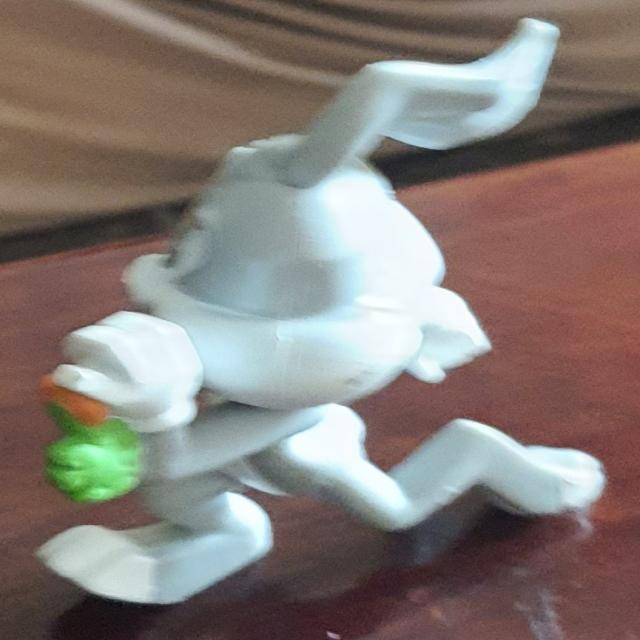Rabbit: (37, 19, 604, 604)
